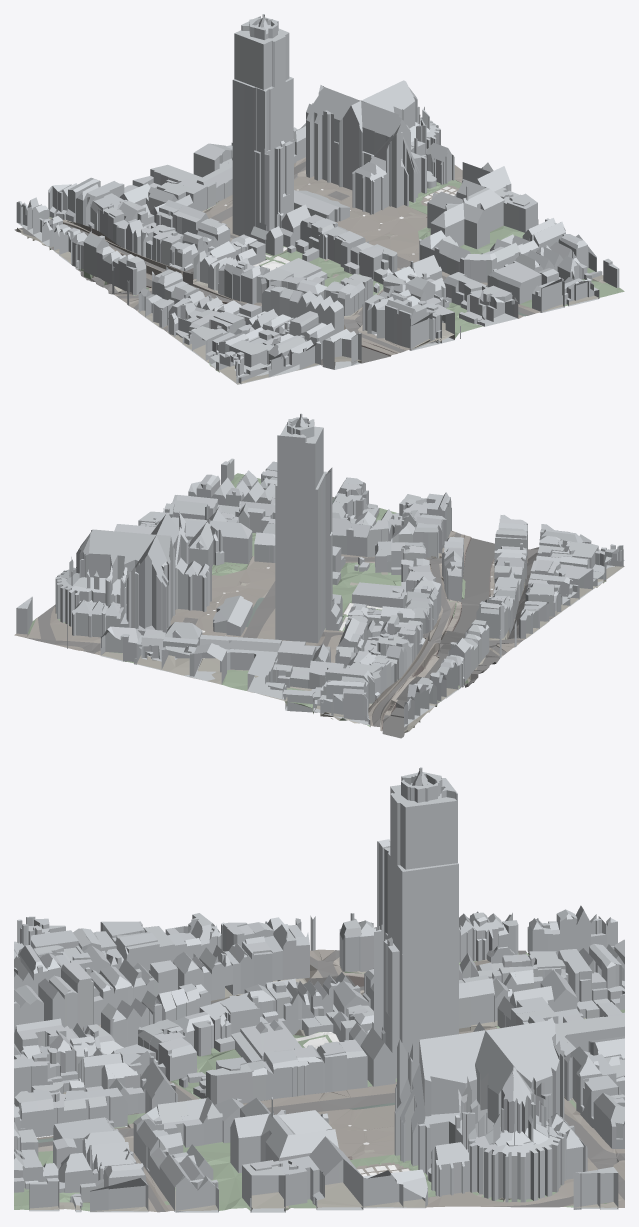
The model's file is SM_UtrechtDomplein.fbx.
The picture shows the model from 3 angles, top to bottom: view 1: azimuth 30°, elevation 25°; view 2: azimuth 150°, elevation 25°; view 3: azimuth 270°, elevation 25°; orthographic projection. The views are drawn at different scales.
Parts seen in each view (by area): view 1: Twin_Gebouwen, Twin_Voetpaden, Twin_Erven, Twin_Wegen, Twin_Onbegroeid; view 2: Twin_Gebouwen, Twin_Voetpaden, Twin_Wegen, Twin_Water, Twin_Erven, Twin_Onbegroeid, Twin_Bruggen; view 3: Twin_Gebouwen, Twin_Voetpaden, Twin_Erven, Twin_Wegen, Twin_Onbegroeid, Twin_Begroeid.
Boxes of the visible parts, x1=… form: Twin_Gebouwen: x1=16, y1=14, x2=619, y2=384; Twin_Voetpaden: x1=49, y1=157, x2=540, y2=365; Twin_Erven: x1=49, y1=180, x2=624, y2=371; Twin_Wegen: x1=50, y1=161, x2=535, y2=366; Twin_Onbegroeid: x1=16, y1=180, x2=606, y2=384; Twin_Gebouwen: x1=16, y1=413, x2=624, y2=727; Twin_Voetpaden: x1=14, y1=531, x2=554, y2=731; Twin_Wegen: x1=25, y1=497, x2=552, y2=726; Twin_Water: x1=382, y1=538, x2=494, y2=738; Twin_Erven: x1=28, y1=473, x2=605, y2=726; Twin_Onbegroeid: x1=93, y1=484, x2=624, y2=735; Twin_Bruggen: x1=396, y1=630, x2=464, y2=708; Twin_Gebouwen: x1=14, y1=767, x2=624, y2=1212; Twin_Voetpaden: x1=37, y1=949, x2=624, y2=1211; Twin_Erven: x1=14, y1=953, x2=624, y2=1211; Twin_Wegen: x1=38, y1=950, x2=624, y2=1212; Twin_Onbegroeid: x1=30, y1=953, x2=617, y2=1211; Twin_Begroeid: x1=295, y1=1032, x2=409, y2=1176.
Size of the model in its own units: 200 by 200 by 113.
